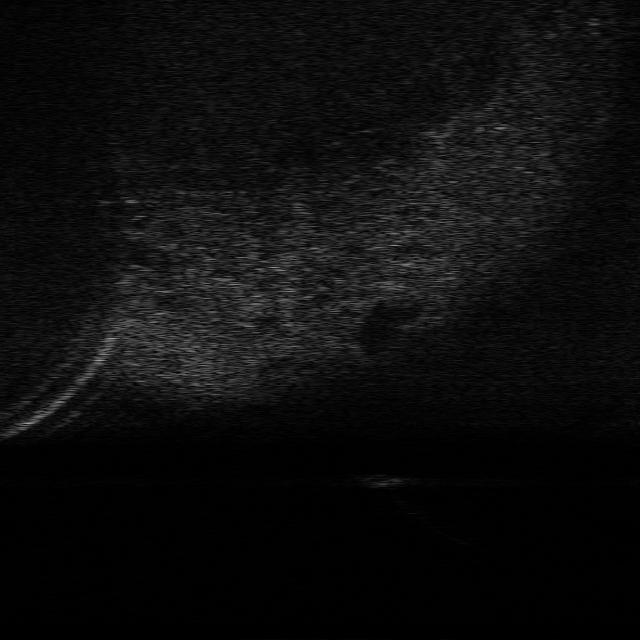cube: (354, 469, 414, 489)
